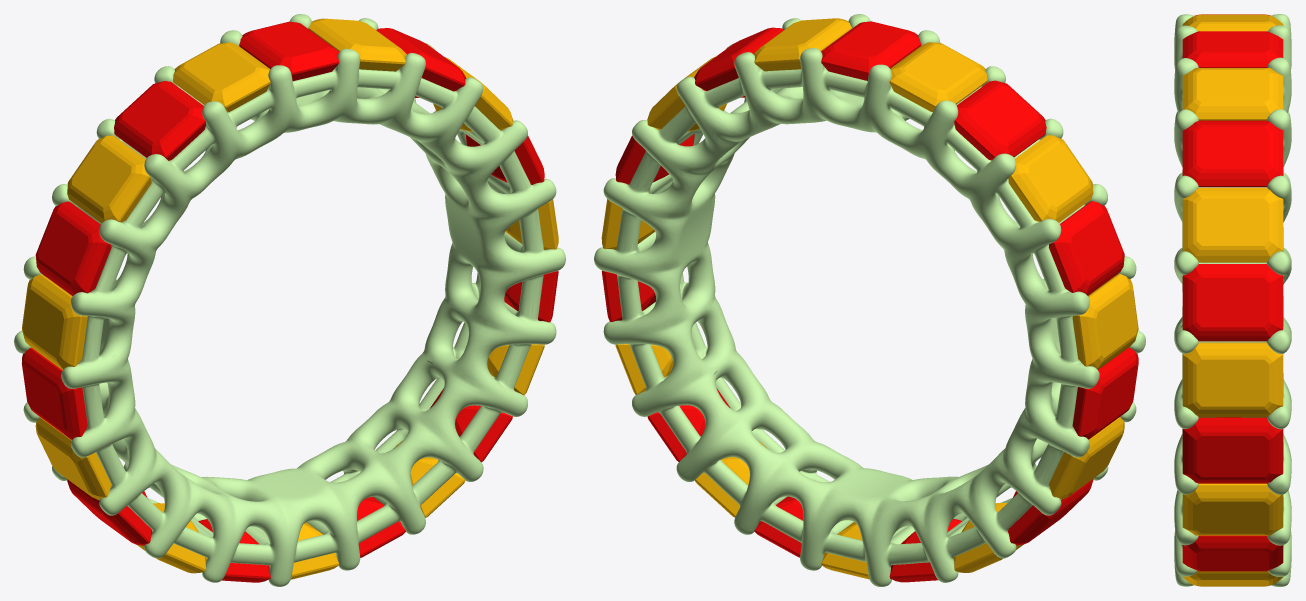
Rendered from TCC-RN-CR-32203-Emerald-Eternity-25.glb.
3 views of the same model, side by side, from view 1: azimuth 30°, elevation 25°; view 2: azimuth 150°, elevation 25°; view 3: azimuth 270°, elevation 25° (orthographic).
Visible parts, largest first — view 1: Metal03, Diamond Band02.009, Diamond Band01.009, Diamond Band01.008, Diamond Band02.010, Diamond Band02.008, Diamond Band01.010, Diamond Band01.007, Diamond Band02, Diamond Band02.007, Diamond Band01, Diamond Band01.006 (+11 smaller); view 2: Metal03, Diamond Band02.009, Diamond Band01.009, Diamond Band01.008, Diamond Band02.010, Diamond Band02.008, Diamond Band01.010, Diamond Band01.007, Diamond Band02, Diamond Band02.007, Diamond Band01, Diamond Band01.006 (+11 smaller); view 3: Metal03, Diamond Band01.001, Diamond Band02.002, Diamond Band02.001, Diamond Band01, Diamond Band01.002, Diamond Band02, Diamond Band02.003, Diamond Band01.010, Diamond Band01.003, Diamond Band02.010, Diamond Band02.004.
Part boxes in pixels (x1,y1,x2,y2): Metal03: (14,14,565,586); Diamond Band02.009: (67,135,151,223); Diamond Band01.009: (114,81,205,160); Diamond Band01.008: (35,201,111,295); Diamond Band02.010: (173,42,270,112); Diamond Band02.008: (22,274,87,370); Diamond Band01.010: (239,21,339,81); Diamond Band01.007: (21,347,87,439); Diamond Band02: (308,18,406,71); Diamond Band02.007: (35,417,111,500); Diamond Band01: (376,28,466,97); Diamond Band01.006: (67,479,152,545); Metal03: (594,14,1145,586); Diamond Band02.009: (1008,135,1093,222); Diamond Band01.009: (954,80,1046,160); Diamond Band01.008: (1049,201,1124,295); Diamond Band02.010: (889,42,987,111); Diamond Band02.008: (1072,273,1138,369); Diamond Band01.010: (821,21,921,80); Diamond Band01.007: (1072,347,1138,439); Diamond Band02: (753,18,852,71); Diamond Band02.007: (1049,417,1124,499); Diamond Band01: (694,27,783,97); Diamond Band01.006: (1008,479,1093,545); Metal03: (1174,14,1291,586); Diamond Band01.001: (1182,264,1283,341); Diamond Band02.002: (1182,342,1283,417); Diamond Band02.001: (1182,188,1283,262); Diamond Band01: (1182,120,1283,187); Diamond Band01.002: (1182,417,1283,483); Diamond Band02: (1182,68,1283,120); Diamond Band02.003: (1182,483,1283,535); Diamond Band01.010: (1182,31,1283,67); Diamond Band01.003: (1182,535,1283,571); Diamond Band02.010: (1182,14,1283,31); Diamond Band02.004: (1182,571,1282,586).
Bounding box in the file's own units: 24.52 × 24.43 × 5.03.
